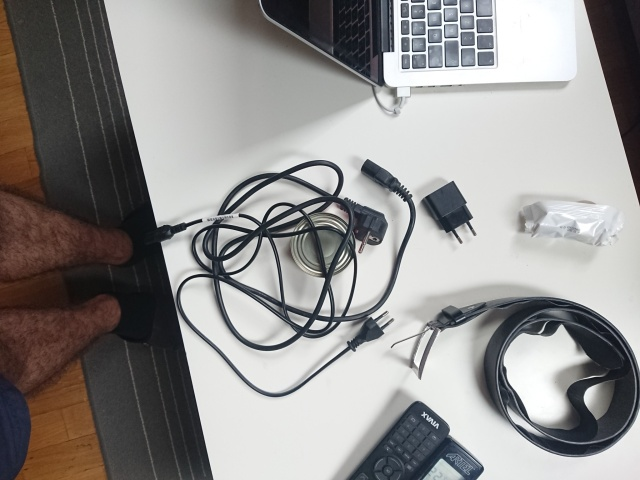Podravka Luncheon Meat 150g: (287, 210, 359, 280)
